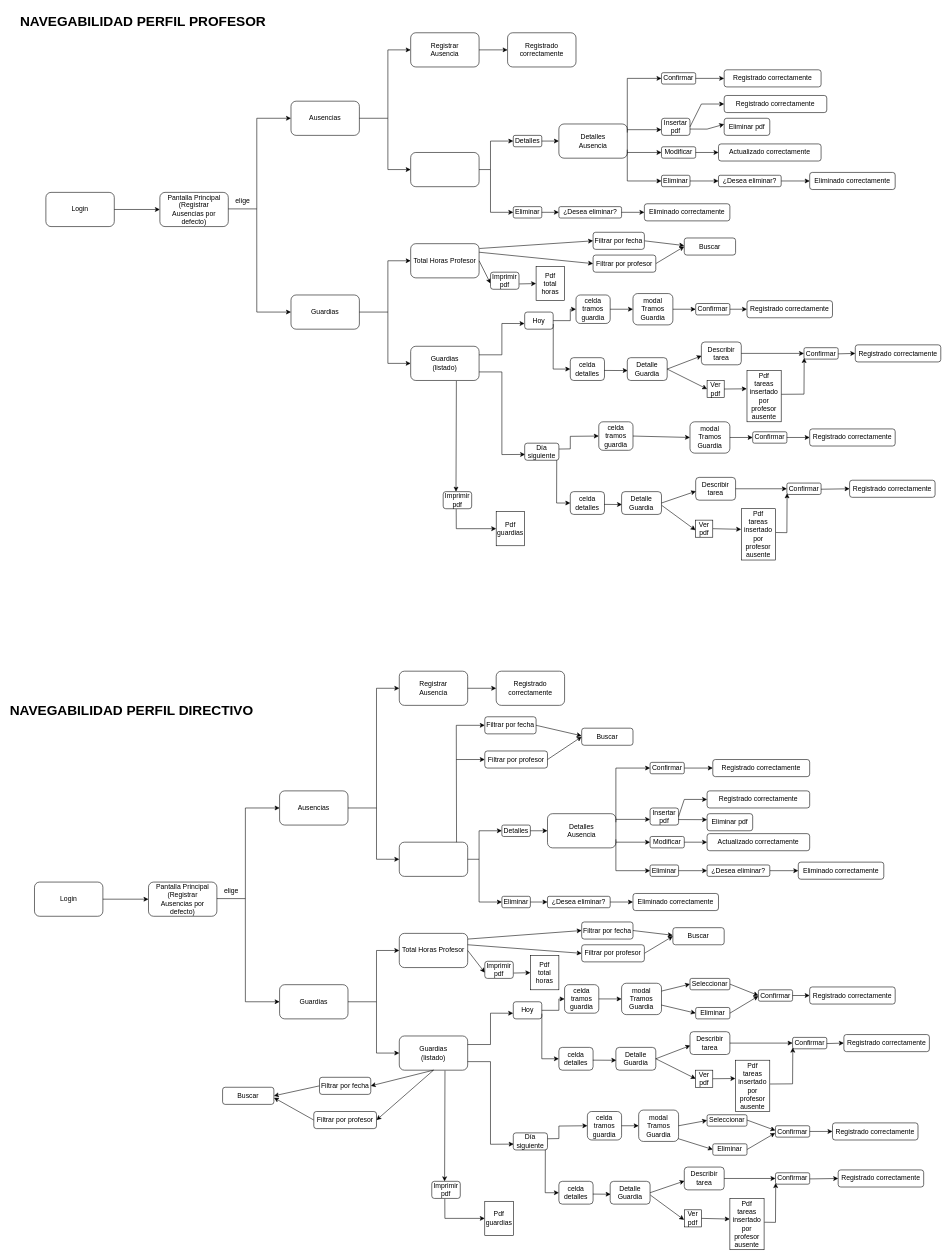
Image size: 951x1260. Some labels were removed from this diagram. Each missing label, with the box of its shape:
Ausencias (listado): (399, 842, 468, 876)
Mis Ausencias (listado): (410, 152, 479, 187)
